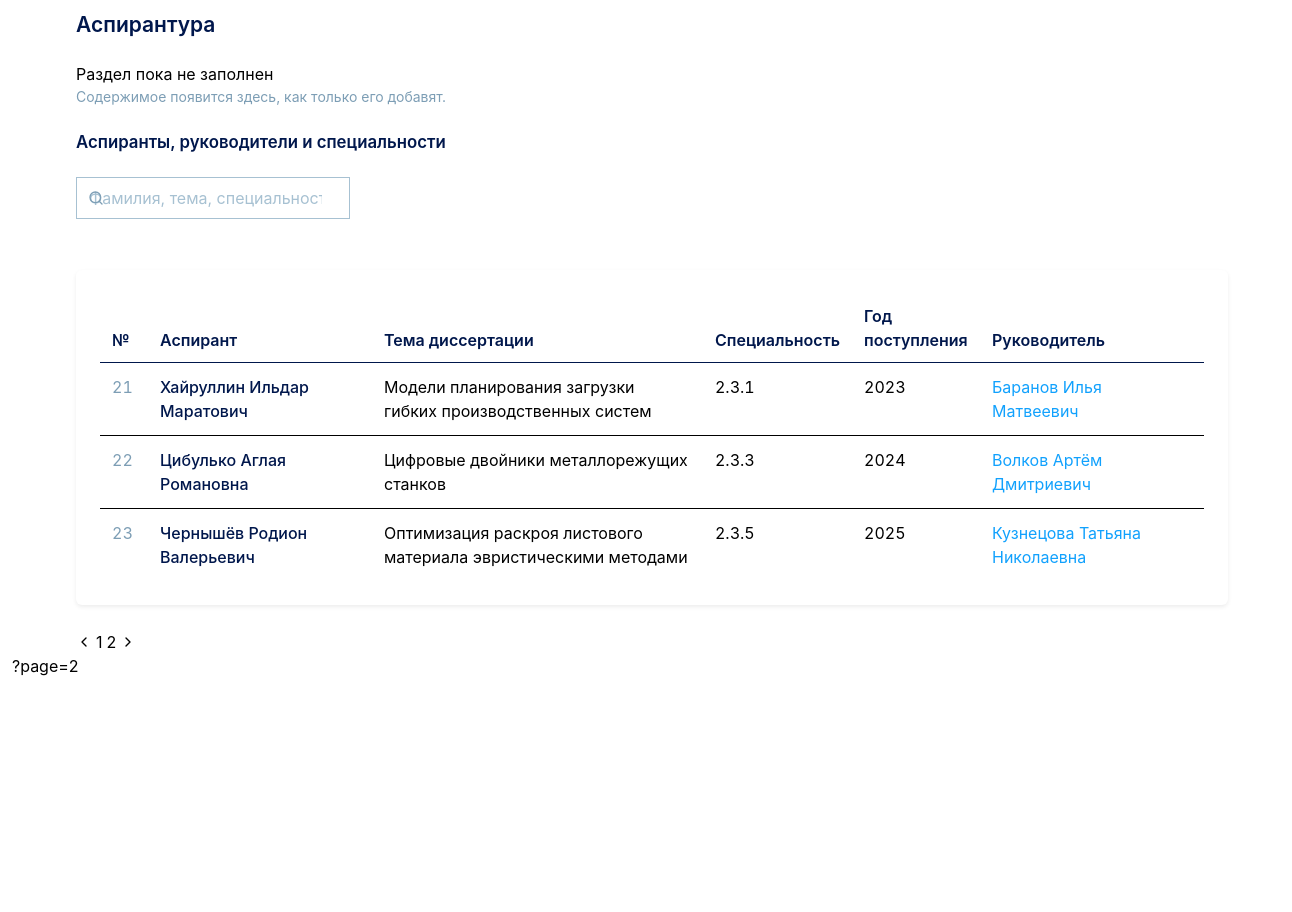
it: PostgraduatePage › сбрасывает номер страницы при новом запросе
Expected: the column heading "Хайруллин Ильдар Маратович" is shown, [148,363,372,436]
Type "верещагина" into the search field named "Поиск по таблице аспирантов" at {"x": 213, "y": 198}, box [76,177,350,219]
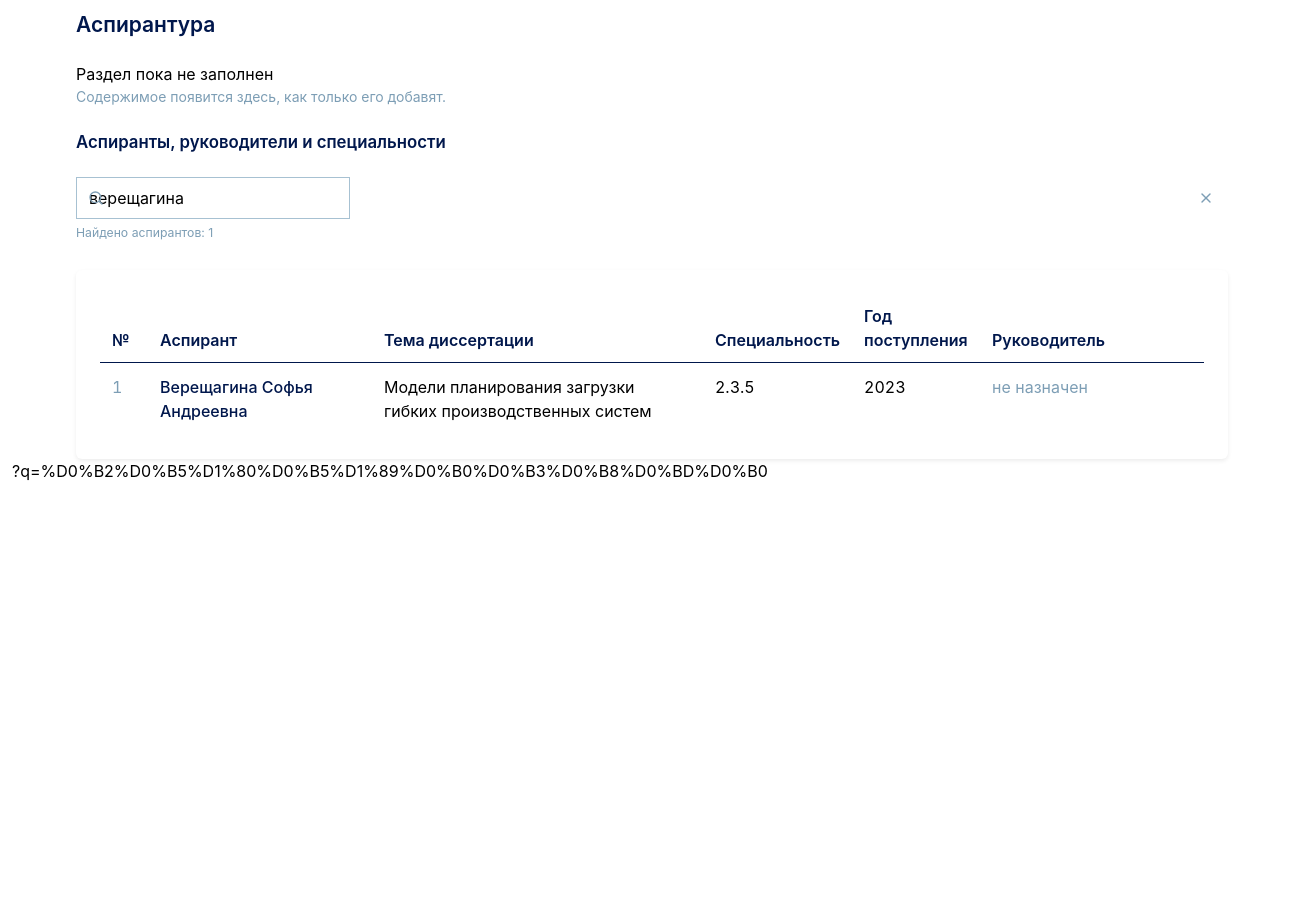
Expected: the column heading "Верещагина Софья Андреевна" is shown, [148,363,372,435]
